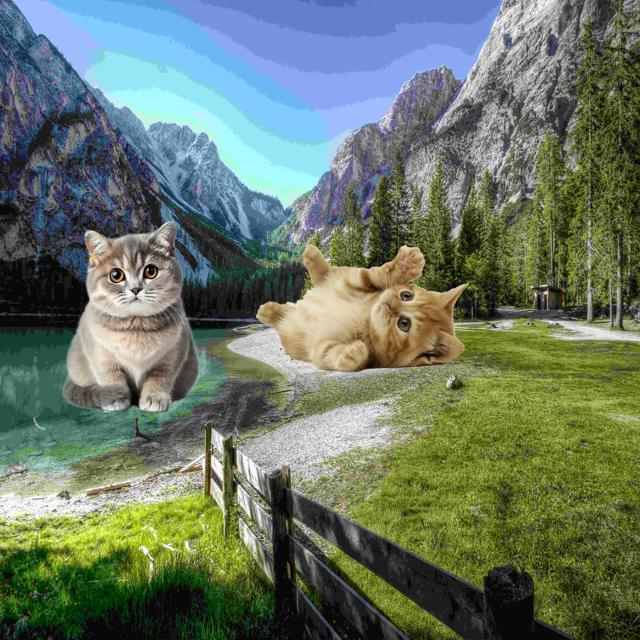cat: (18, 199, 245, 426), (258, 246, 468, 373)
